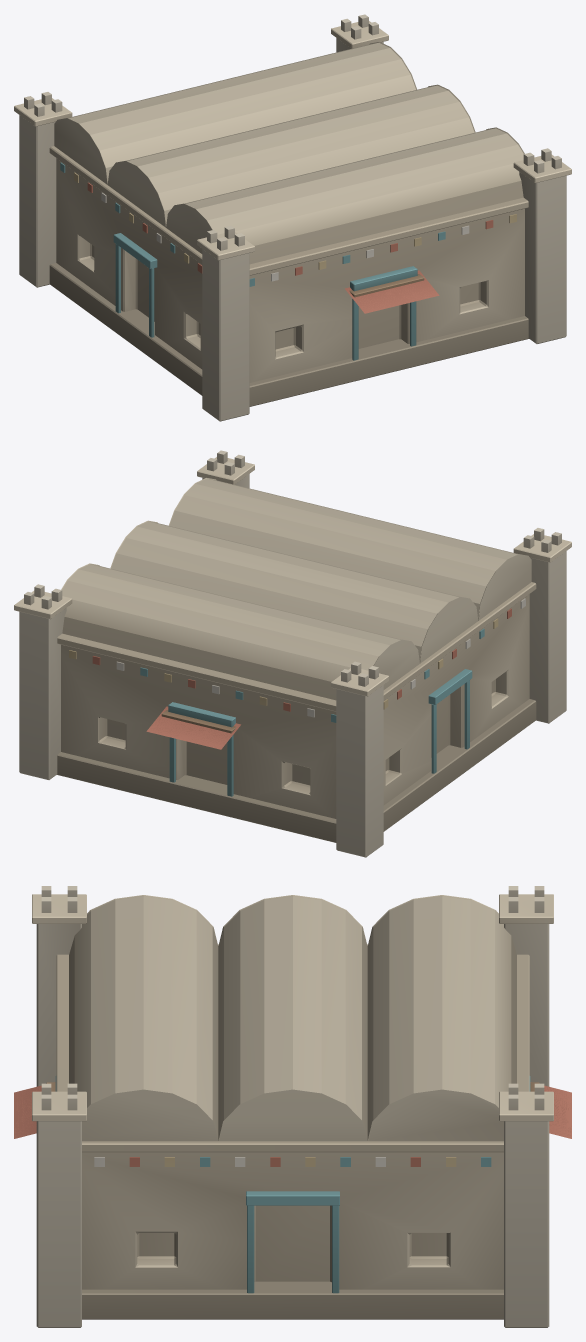
File: caravanserai.glb
3 views of the same model, one above another, from view 1: azimuth 30°, elevation 25°; view 2: azimuth 150°, elevation 25°; view 3: azimuth 270°, elevation 25° (orthographic). The views are drawn at different scales.
Parts seen in each view (by area): view 1: caravanserai; view 2: caravanserai; view 3: caravanserai.
Boxes of the visible parts, x1,y1,x2,y2 form: caravanserai: (14, 14, 571, 421); caravanserai: (14, 450, 571, 857); caravanserai: (14, 886, 571, 1327).
Bounding box in the file's own units: 16.1 × 7.76 × 17.2.
